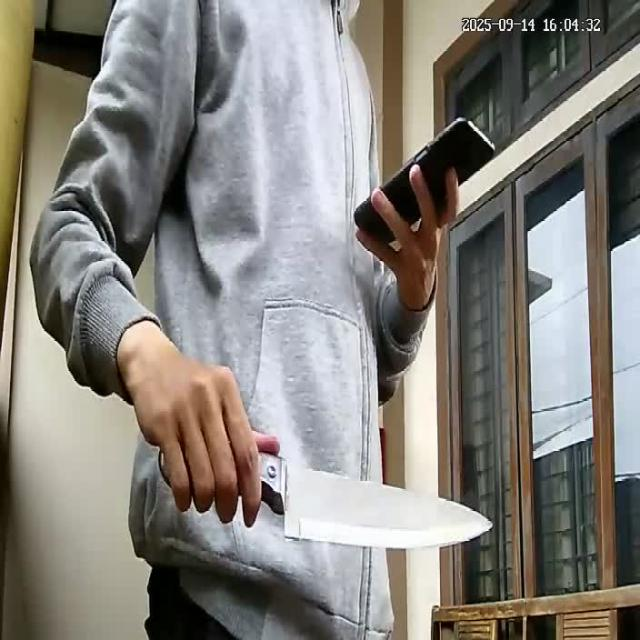senjata_tajam: (260, 452, 496, 554)
